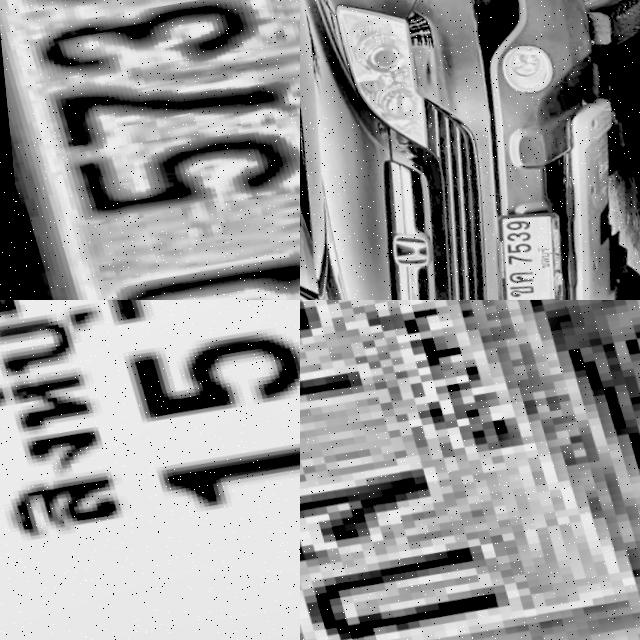license-plate: (300, 300, 640, 640), (0, 300, 300, 640), (0, 0, 300, 300), (463, 198, 579, 300)
